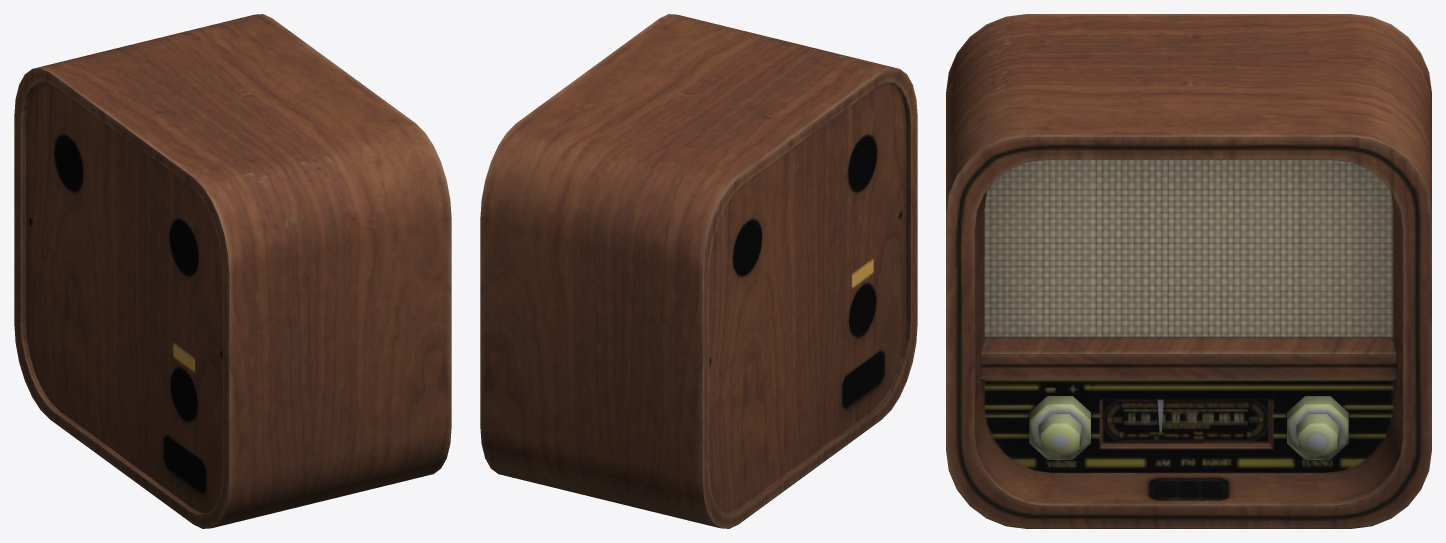
Rendered from Radio.fbx.
3 views of the same model, side by side, from view 1: azimuth 30°, elevation 25°; view 2: azimuth 150°, elevation 25°; view 3: azimuth 270°, elevation 25° (orthographic). The views are drawn at different scales.
Parts seen in each view (by area): view 1: Radio; view 2: Radio; view 3: Radio.
Part boxes in pixels (x1,y1,x2,y2): Radio: (14,14,451,528); Radio: (480,14,917,528); Radio: (946,14,1431,528).
Bounding box in the file's own units: 13.87 × 20.67 × 23.21.
Materials: 1 (1 with a texture image).
